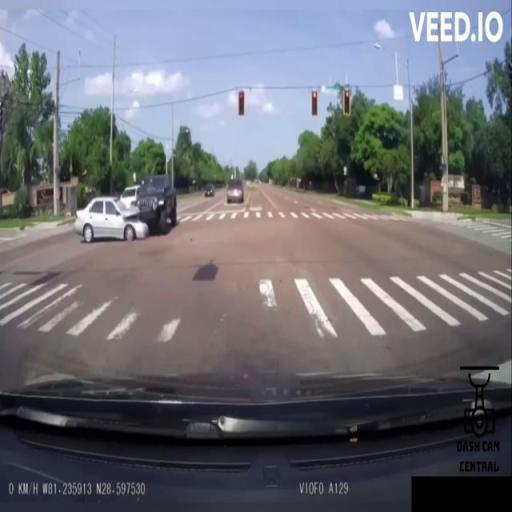小汽车: (226, 176, 246, 206)
小汽车撞小汽车: (75, 176, 180, 242)
